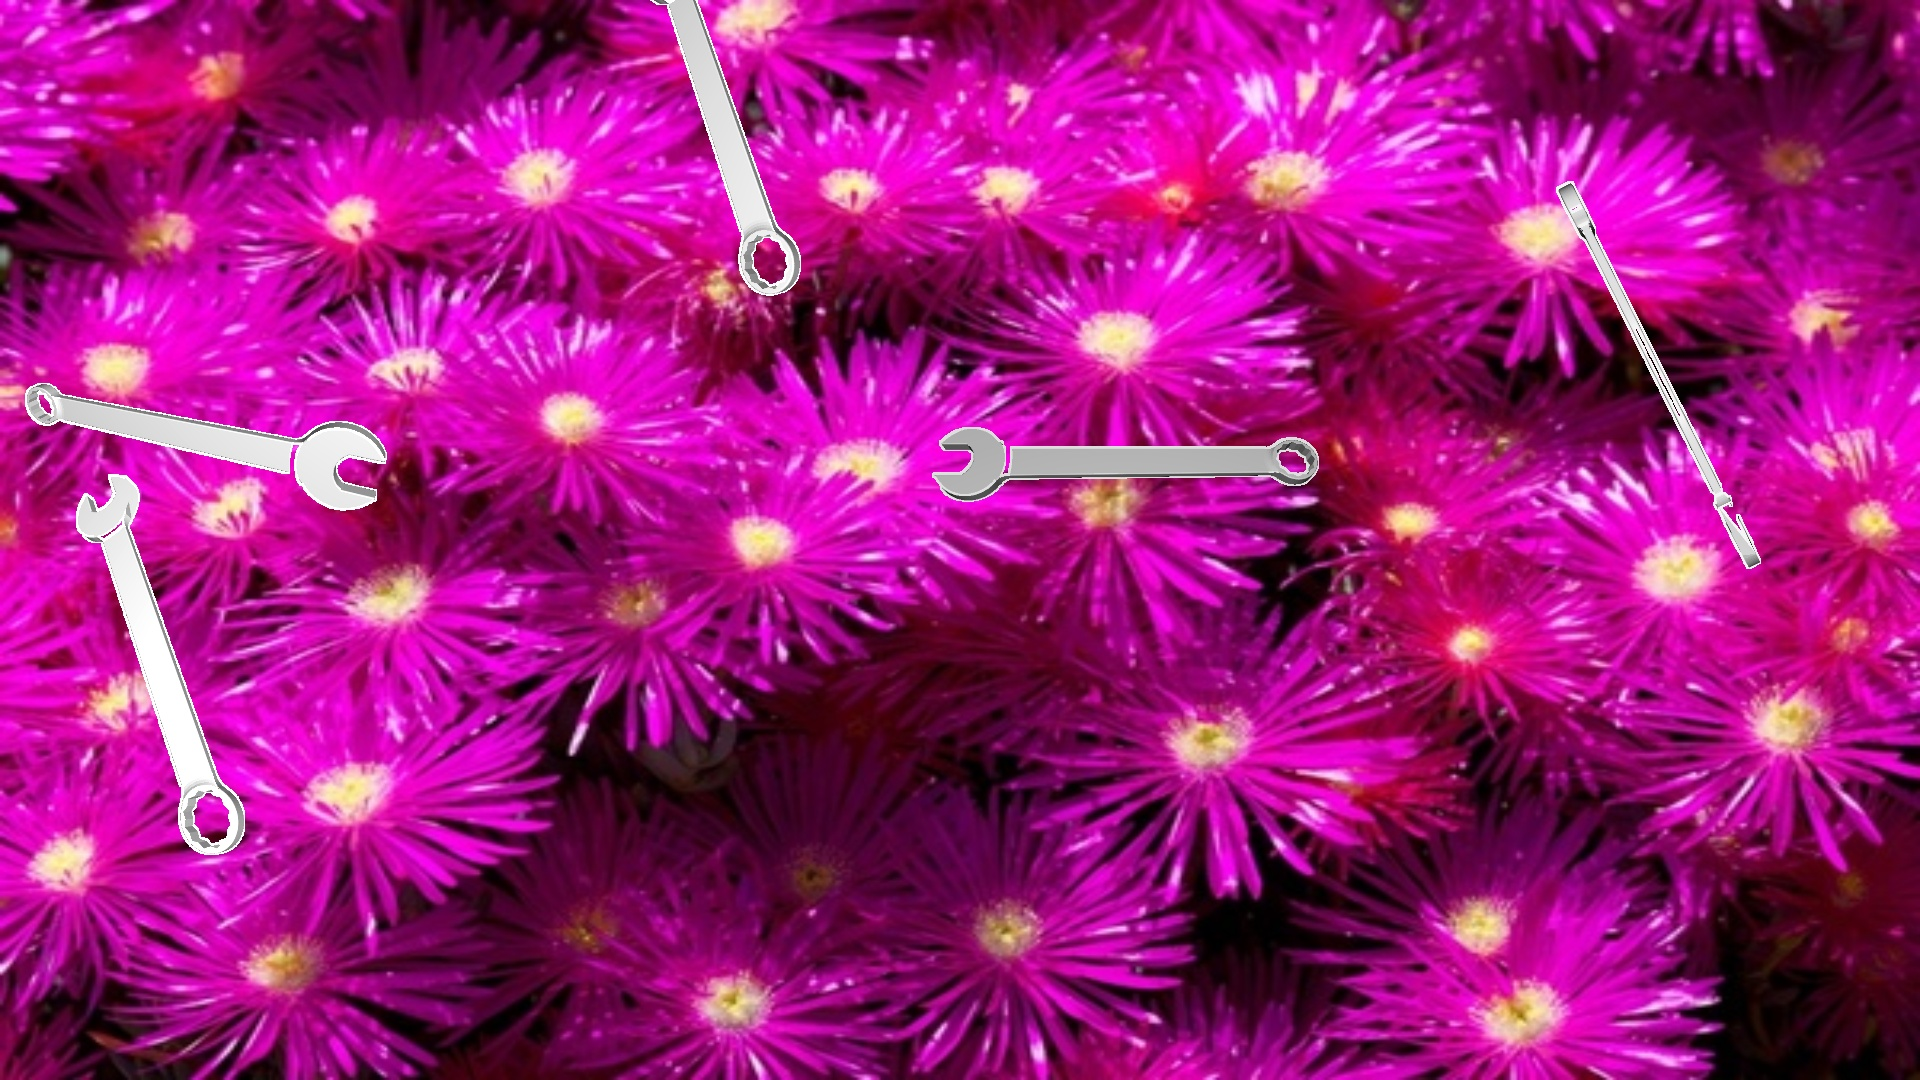Mixed Key: (1556, 181, 1760, 568), (76, 473, 244, 855), (25, 382, 386, 510), (650, 0, 800, 295), (932, 427, 1317, 501)
